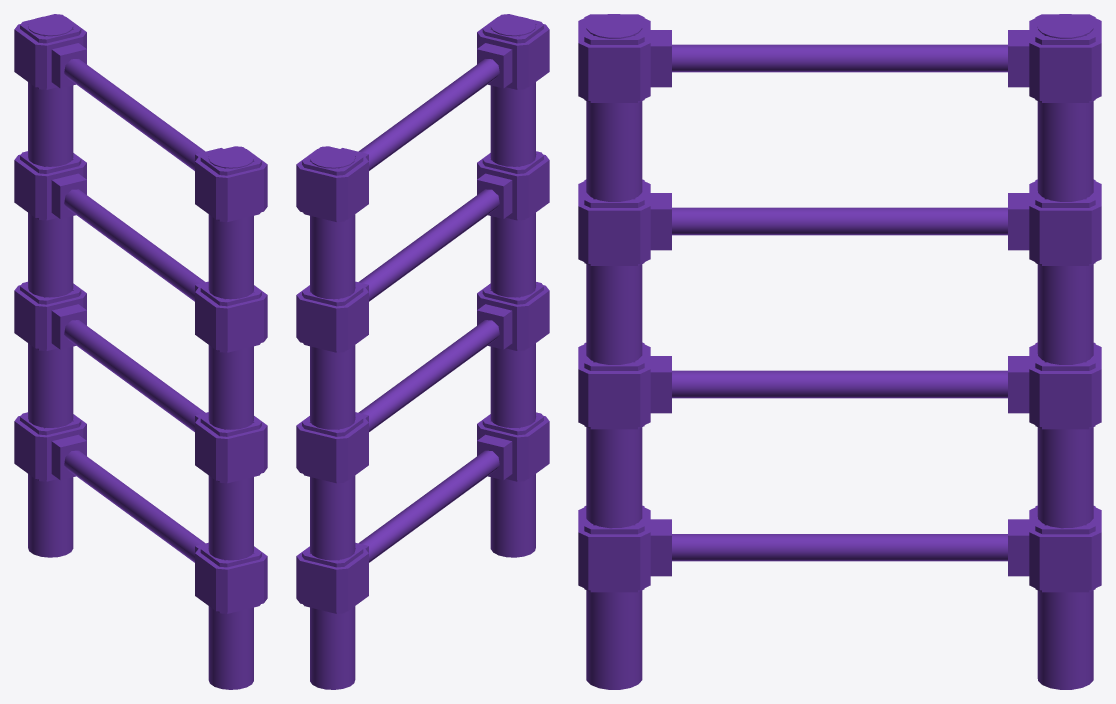
Rendered from Ladder_A_2m.FBX.
3 renders of one model, left to right at view 1: azimuth 30°, elevation 25°; view 2: azimuth 150°, elevation 25°; view 3: azimuth 270°, elevation 25°, orthographic. The views are drawn at different scales.
Parts seen in each view (by area): view 1: Ladder_A_2m; view 2: Ladder_A_2m; view 3: Ladder_A_2m.
Part boxes in pixels (box(x1,y1,x2,y2)): Ladder_A_2m: box(14, 14, 267, 689); Ladder_A_2m: box(296, 14, 549, 689); Ladder_A_2m: box(578, 14, 1101, 689).
Bounding box in the file's own units: 20.68 × 200 × 145.
